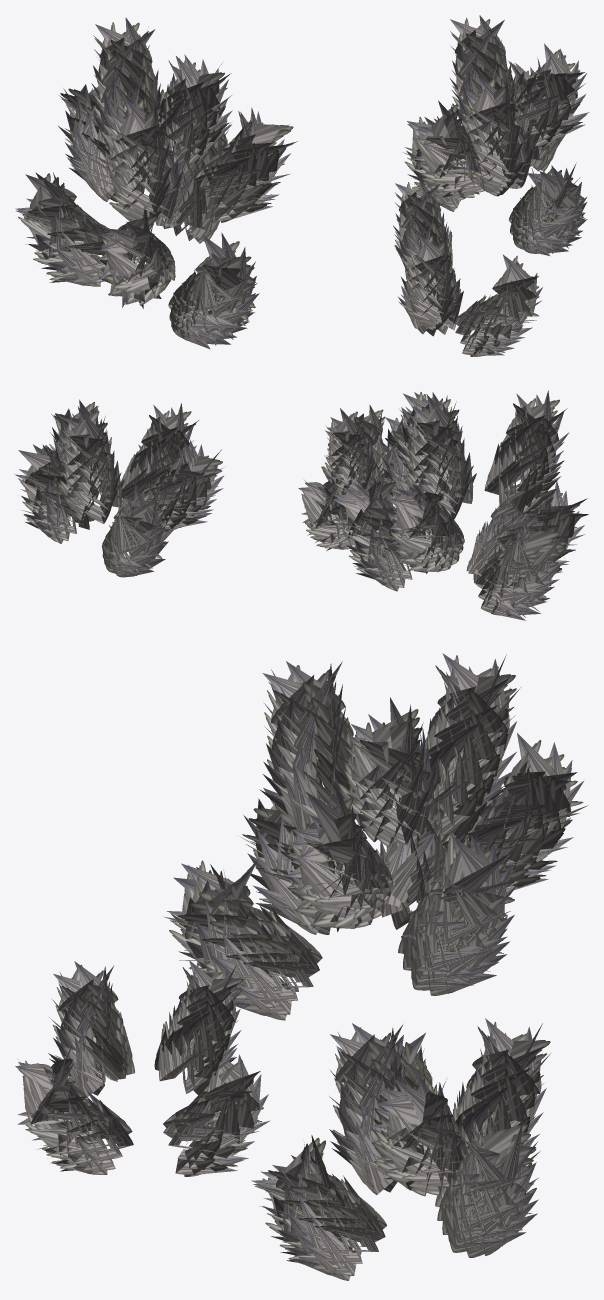
File: cholla.glb
3 renders of one model, top to bottom at view 1: azimuth 30°, elevation 25°; view 2: azimuth 150°, elevation 25°; view 3: azimuth 270°, elevation 25°, orthographic. The views are drawn at different scales.
Visible parts, largest first — view 1: geometry_0; view 2: geometry_0; view 3: geometry_0.
Boxes of the visible parts, x1,y1,x2,y2 form: geometry_0: (15, 15, 589, 356); geometry_0: (14, 390, 588, 620); geometry_0: (15, 653, 588, 1280).
Size of the model in its own units: 2287 by 1100 by 1500.
1 material, 1 textured.
